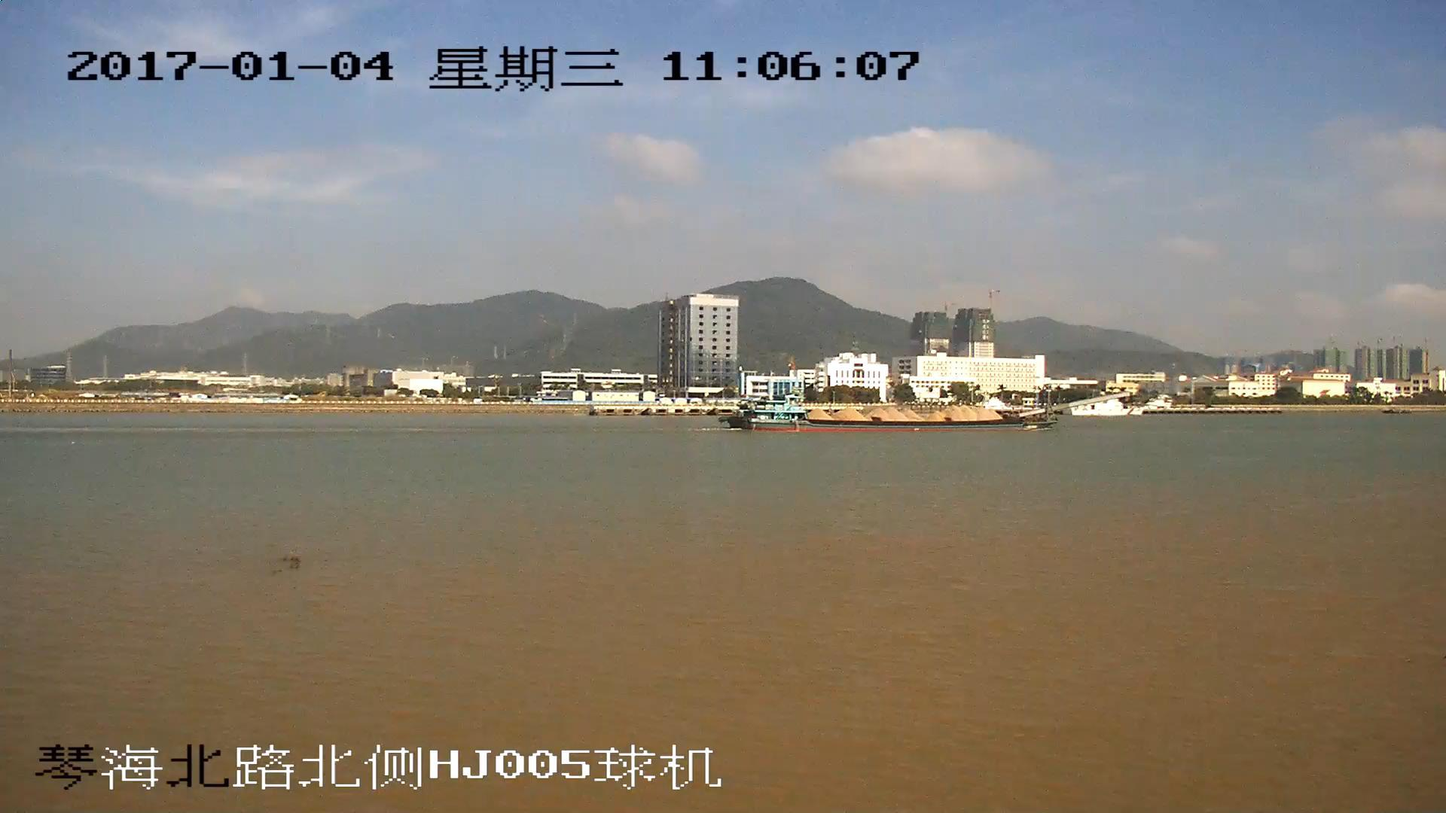ore carrier: (736, 391, 1127, 429)
